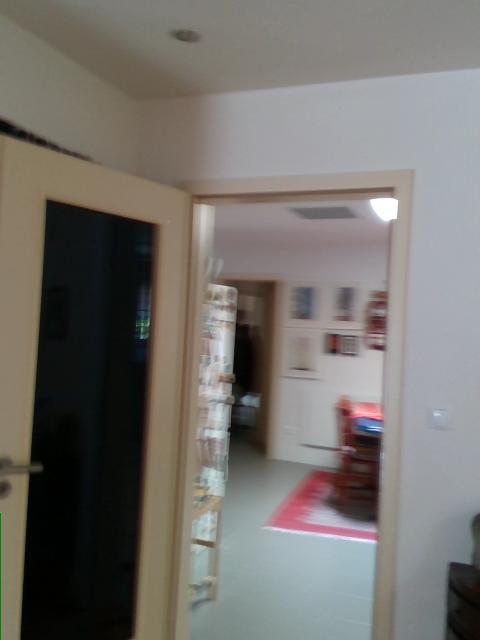door: (1, 135, 191, 639)
